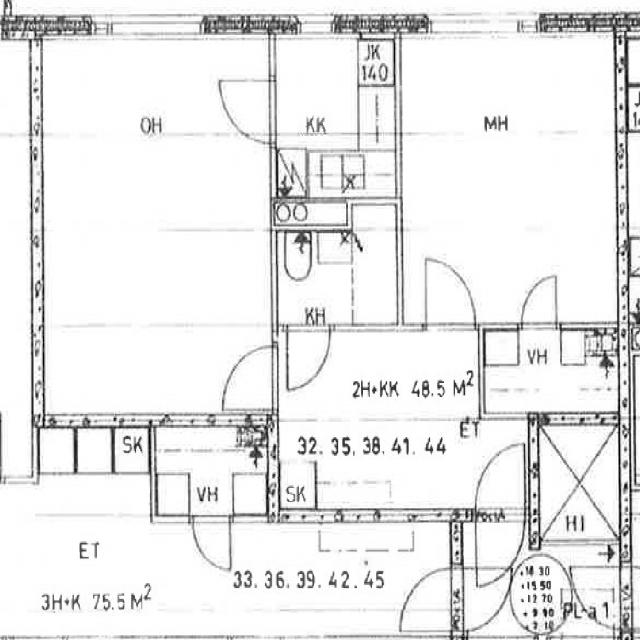door: (475, 508, 526, 586), (475, 444, 526, 521), (220, 346, 278, 410), (222, 80, 278, 143), (426, 260, 475, 332), (286, 322, 330, 386), (521, 278, 556, 332)
